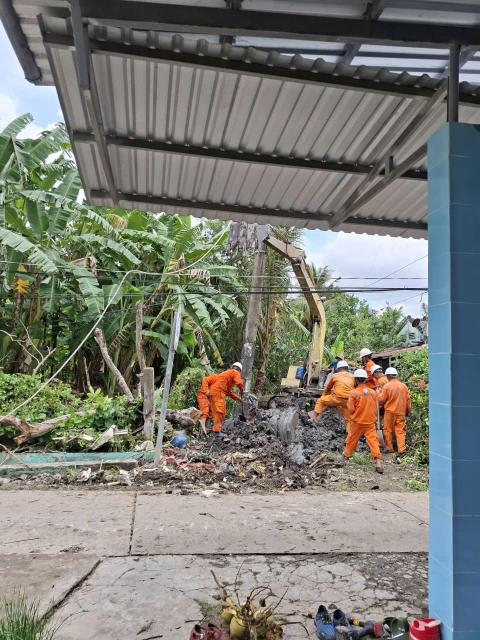helmet: (229, 360, 249, 375), (355, 347, 374, 360), (385, 366, 398, 379), (369, 364, 383, 373), (337, 360, 347, 372), (356, 370, 366, 379)
